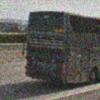buses: (28, 12, 100, 93)
